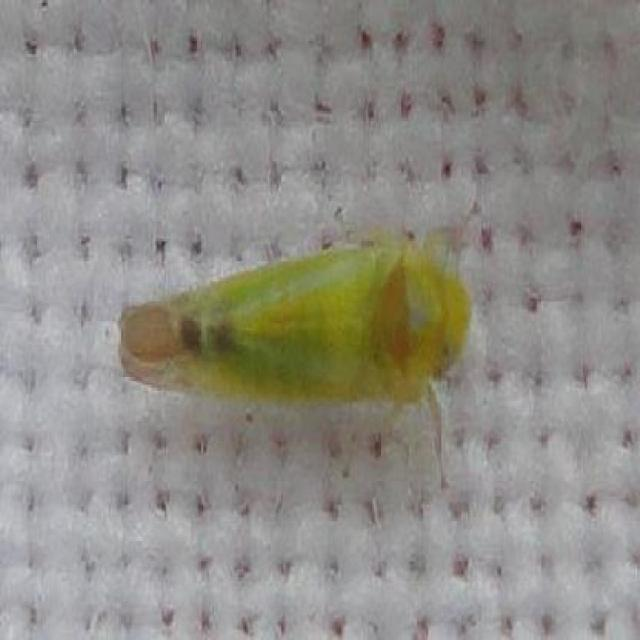green-leafhopper: (114, 202, 476, 487)
